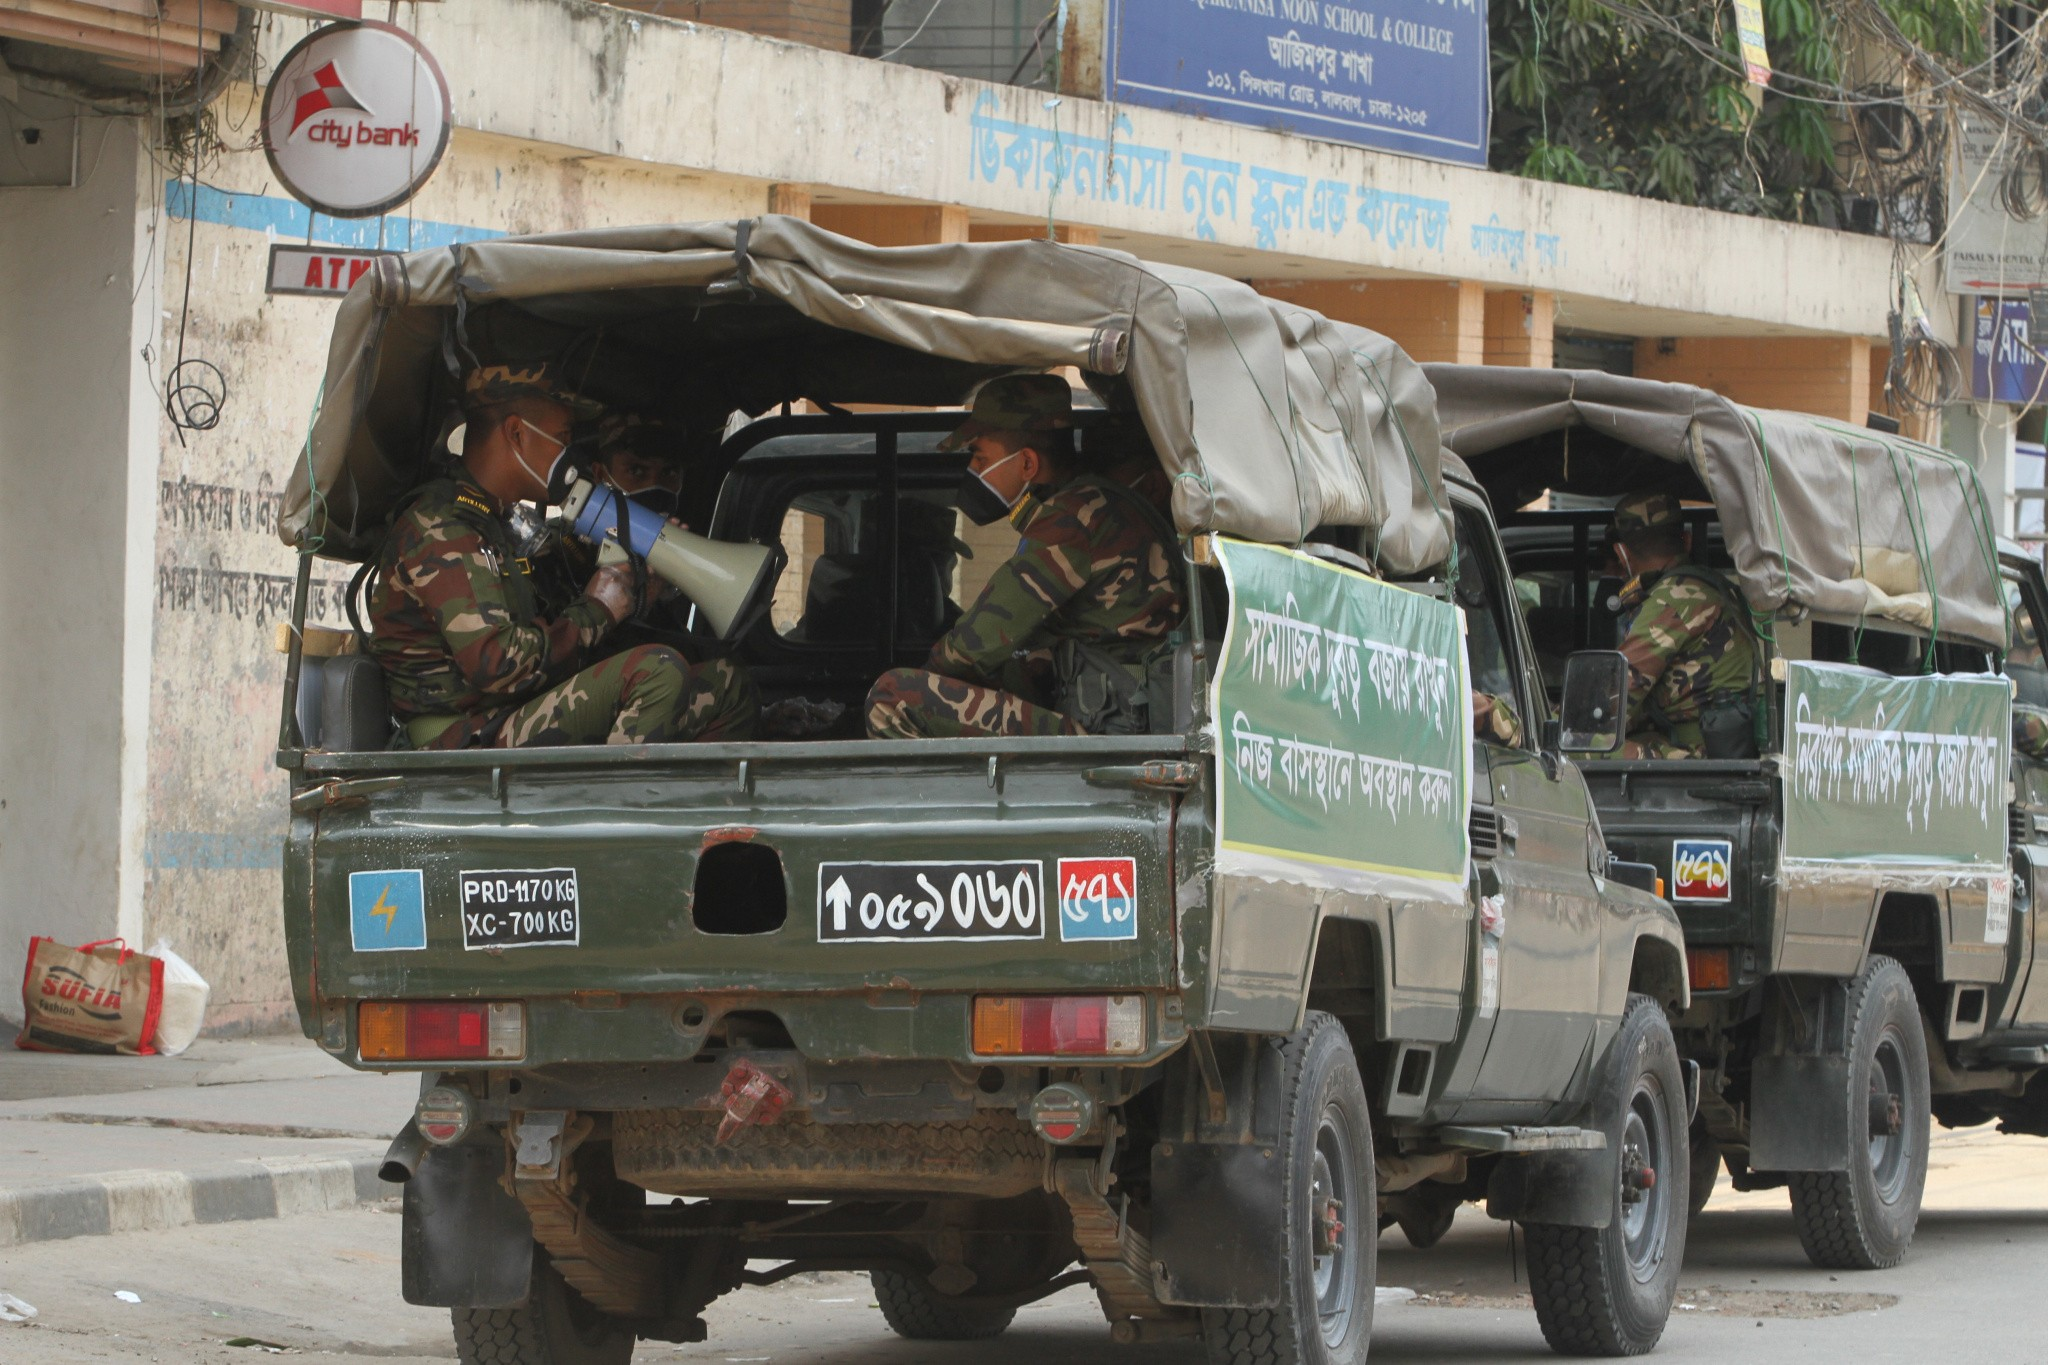army vehicle: (274, 218, 1692, 1363), (1392, 363, 2045, 1275)
